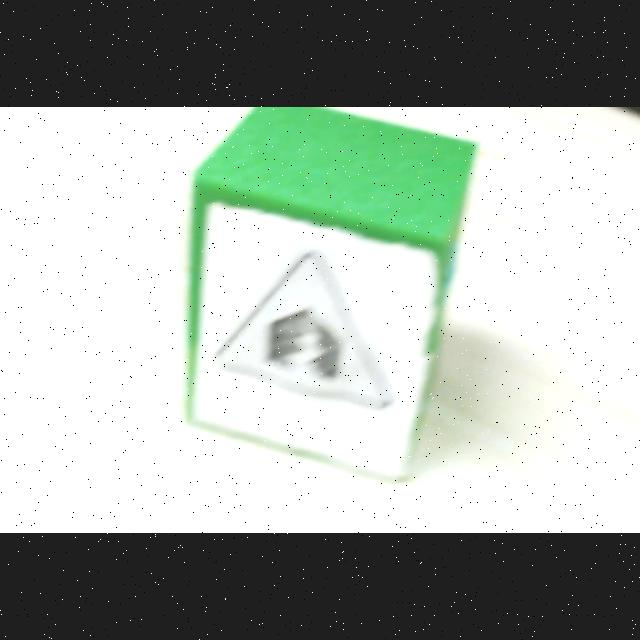Earthquake: (210, 251, 400, 413)
